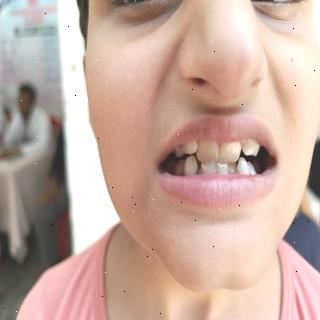maligned: (196, 140, 221, 165), (219, 138, 239, 166), (242, 134, 260, 158), (184, 136, 200, 154), (225, 157, 239, 176)
